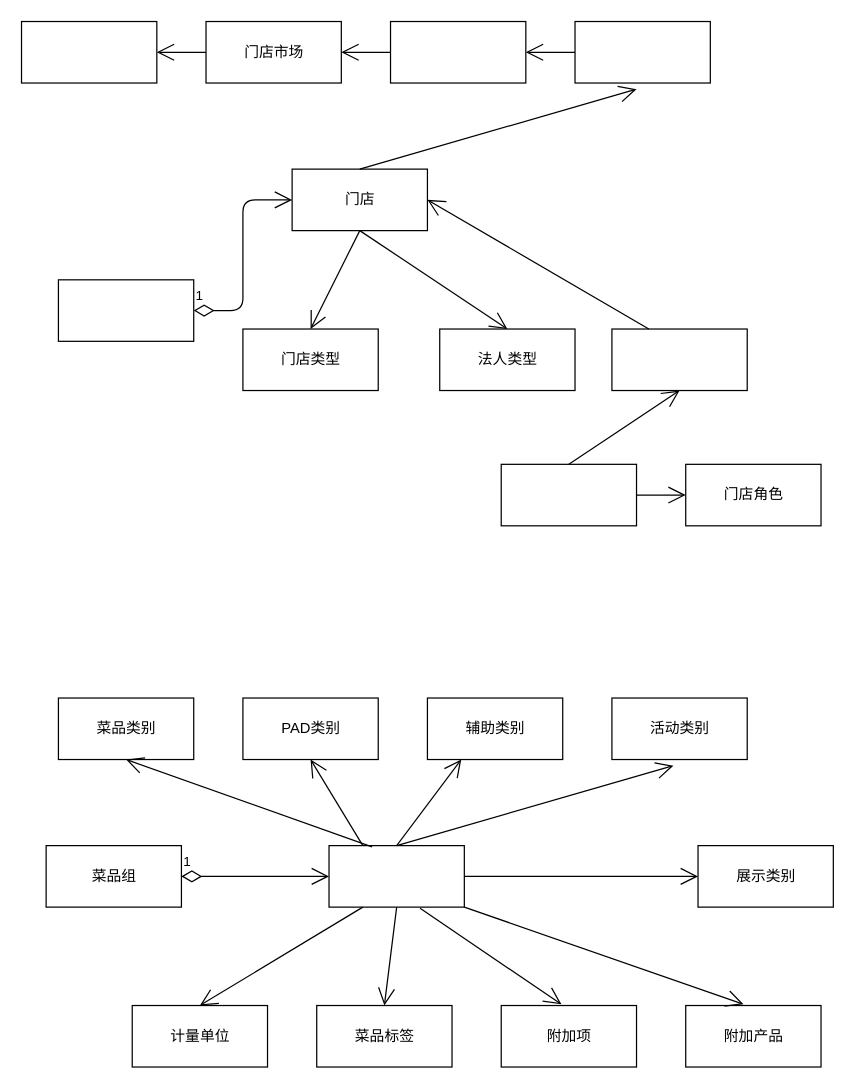
This 855x1089 diagram has some shape labels left out. Here are the shapes that lost their labels. From the top down, the centre of each, then its label:
At (x=88, y=51): "门店品牌".
At (x=457, y=51): "门店运营区".
At (x=642, y=51): "门店督导区".
At (x=125, y=310): "门店组".
At (x=679, y=359): "门店部门".
At (x=568, y=494): "门店操作员".
At (x=396, y=875): "菜品".
